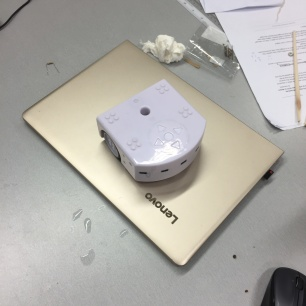thymio: (89, 76, 217, 183)
